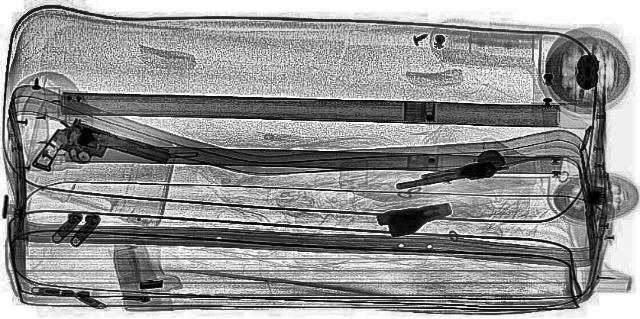Gun: (9, 120, 179, 194), (378, 148, 520, 194), (370, 202, 462, 236)
